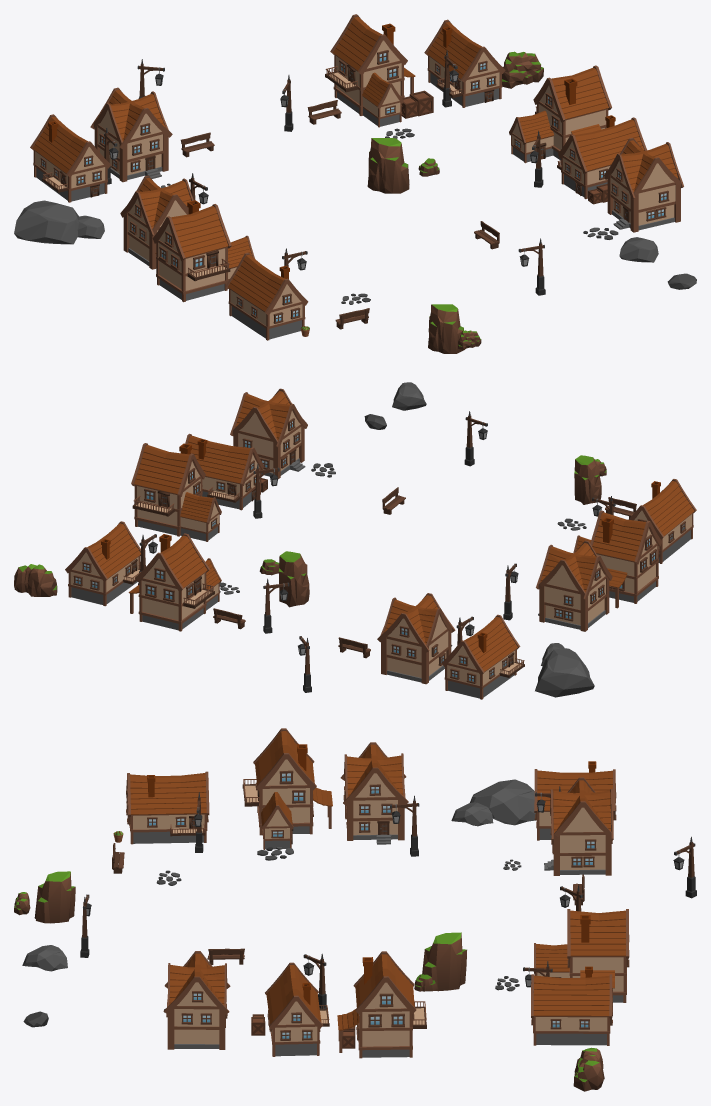
Rendered from GameObject (1).fbx.
The picture shows the model from 3 angles, top to bottom: view 1: azimuth 30°, elevation 25°; view 2: azimuth 150°, elevation 25°; view 3: azimuth 270°, elevation 25°; orthographic projection. The views are drawn at different scales.
Parts seen in each view (by area): view 1: House3, House3__1_, House3__2_, House2, House2__2_, House1__1_, House1__3_, House1__2_, House1, House2__1_, Rock2, cliff7 (+5 smaller); view 2: House3__2_, House3__1_, House2__1_, House2__2_, House3, House2, House1__3_, House1__2_, House1, House1__1_, Rock2, cliff7 (+6 smaller); view 3: House3, House3__2_, House1__2_, House2__2_, House3__1_, House1__1_, House2, House2__1_, House1, House1__3_, Rock2, cliff7 (+7 smaller).
Boxes of the visible parts, x1=… form: House3: x1=152, y1=200, x2=254, y2=302; House3__1_: x1=325, y1=14, x2=415, y2=127; House3__2_: x1=509, y1=65, x2=611, y2=163; House2: x1=604, y1=137, x2=683, y2=232; House2__2_: x1=90, y1=87, x2=172, y2=182; House1__1_: x1=225, y1=252, x2=308, y2=340; House1__3_: x1=30, y1=114, x2=110, y2=202; House1__2_: x1=424, y1=19, x2=505, y2=107; House1: x1=557, y1=115, x2=646, y2=199; House2__1_: x1=120, y1=175, x2=193, y2=269; Rock2: x1=14, y1=200, x2=78, y2=244; cliff7: x1=367, y1=138, x2=409, y2=193; House3__2_: x1=131, y1=443, x2=221, y2=541; House3__1_: x1=128, y1=533, x2=221, y2=631; House2__1_: x1=536, y1=540, x2=612, y2=631; House2__2_: x1=377, y1=593, x2=455, y2=684; House3: x1=573, y1=510, x2=661, y2=608; House2: x1=230, y1=388, x2=307, y2=479; House1__3_: x1=442, y1=614, x2=524, y2=699; House1__2_: x1=65, y1=521, x2=140, y2=606; House1: x1=185, y1=433, x2=264, y2=510; House1__1_: x1=629, y1=479, x2=696, y2=563; Rock2: x1=535, y1=648, x2=594, y2=697; cliff7: x1=278, y1=551, x2=309, y2=607; House3: x1=242, y1=728, x2=332, y2=849; House3__2_: x1=337, y1=951, x2=426, y2=1058; House1__2_: x1=531, y1=966, x2=612, y2=1045; House2__2_: x1=544, y1=777, x2=613, y2=875; House3__1_: x1=534, y1=909, x2=629, y2=1010; House1__1_: x1=126, y1=771, x2=209, y2=844; House2: x1=163, y1=951, x2=230, y2=1049; House2__1_: x1=340, y1=742, x2=408, y2=844; House1: x1=265, y1=962, x2=329, y2=1056; House1__3_: x1=534, y1=761, x2=616, y2=840; Rock2: x1=470, y1=779, x2=535, y2=825; cliff7: x1=422, y1=932, x2=466, y2=991.
Size of the model in its own units: 40838 by 6711 by 39969.
Materials: 2 (2 with a texture image).
